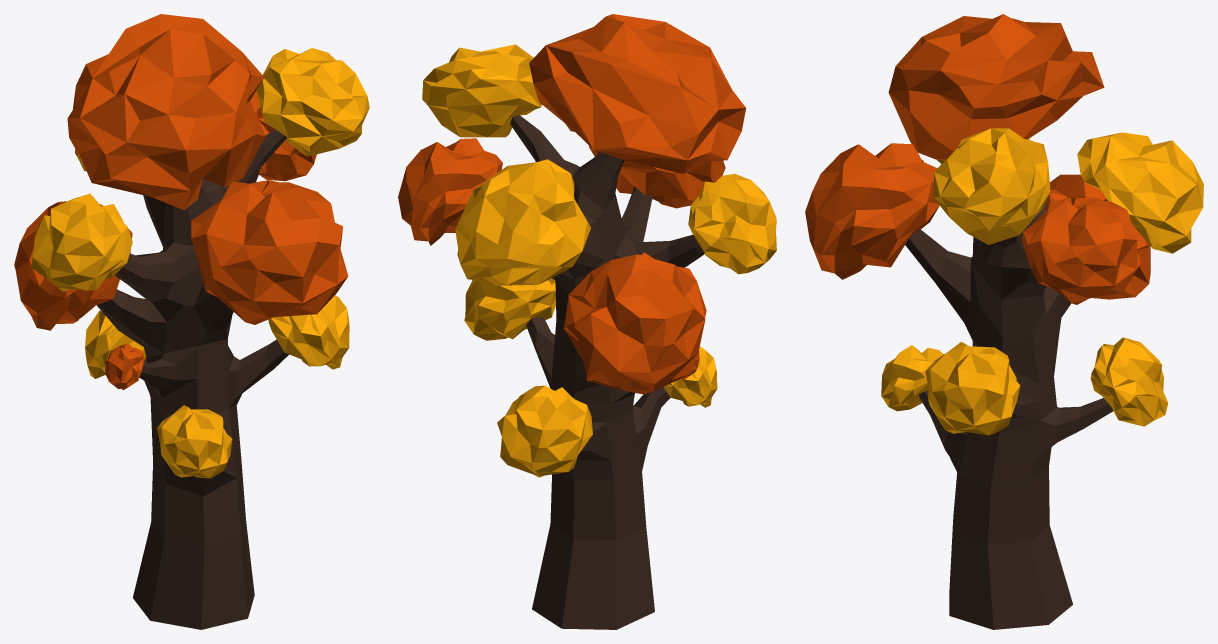
The model's file is tree3GGJ.fbx.
3 renders of one model, left to right at view 1: azimuth 30°, elevation 25°; view 2: azimuth 150°, elevation 25°; view 3: azimuth 270°, elevation 25°, orthographic.
Parts seen in each view (by area): view 1: Cylinder.002, Icosphere.008, Icosphere.012, Icosphere.009, Icosphere.015, Icosphere.016, Icosphere.013, Icosphere.014, Icosphere.018, Icosphere.011, Icosphere.017; view 2: Cylinder.002, Icosphere.008, Icosphere.016, Icosphere.010, Icosphere.009, Icosphere.011, Icosphere.015, Icosphere.018, Icosphere.014, Icosphere.012, Icosphere.013; view 3: Cylinder.002, Icosphere.008, Icosphere.012, Icosphere.009, Icosphere.010, Icosphere.011, Icosphere.014, Icosphere.018, Icosphere.013, Icosphere.016.
Part boxes in pixels (<box>): Cylinder.002: <box>96,129,288,629</box>; Icosphere.008: <box>67,14,264,209</box>; Icosphere.012: <box>191,180,348,324</box>; Icosphere.009: <box>256,48,369,156</box>; Icosphere.015: <box>31,193,132,291</box>; Icosphere.016: <box>14,201,132,330</box>; Icosphere.013: <box>157,405,232,478</box>; Icosphere.014: <box>268,295,349,369</box>; Icosphere.018: <box>85,310,146,378</box>; Icosphere.011: <box>250,88,316,181</box>; Icosphere.017: <box>105,343,144,390</box>; Cylinder.002: <box>510,115,704,629</box>; Icosphere.008: <box>529,14,746,173</box>; Icosphere.016: <box>564,252,706,394</box>; Icosphere.010: <box>455,159,590,285</box>; Icosphere.009: <box>422,44,541,137</box>; Icosphere.011: <box>398,138,502,245</box>; Icosphere.015: <box>688,173,776,274</box>; Icosphere.018: <box>497,385,592,477</box>; Icosphere.014: <box>464,278,555,340</box>; Icosphere.012: <box>589,145,725,208</box>; Icosphere.013: <box>663,346,717,407</box>; Cylinder.002: <box>905,199,1113,629</box>; Icosphere.008: <box>888,14,1104,160</box>; Icosphere.012: <box>805,143,939,279</box>; Icosphere.009: <box>933,128,1050,244</box>; Icosphere.010: <box>1077,132,1203,253</box>; Icosphere.011: <box>1021,197,1141,304</box>; Icosphere.014: <box>925,341,1020,435</box>; Icosphere.018: <box>1090,337,1167,426</box>; Icosphere.013: <box>881,345,943,411</box>; Icosphere.016: <box>1045,174,1150,299</box>.
Bounding box in the file's own units: 368 × 623 × 390.
